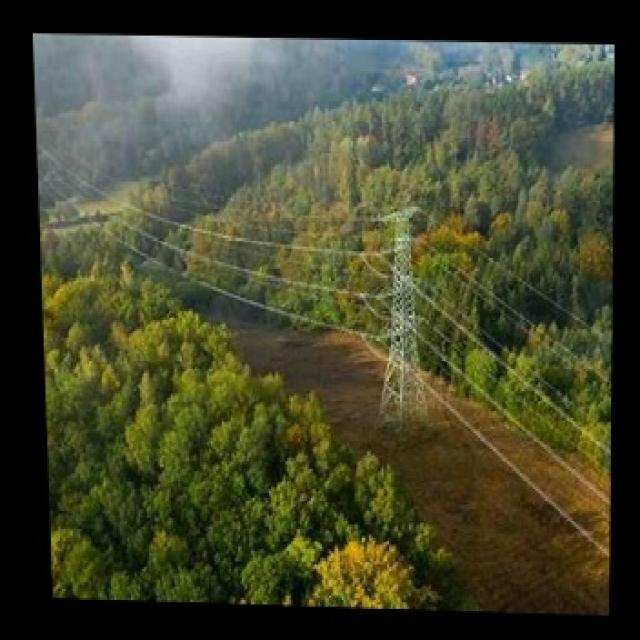utility poles: (355, 198, 458, 436)
